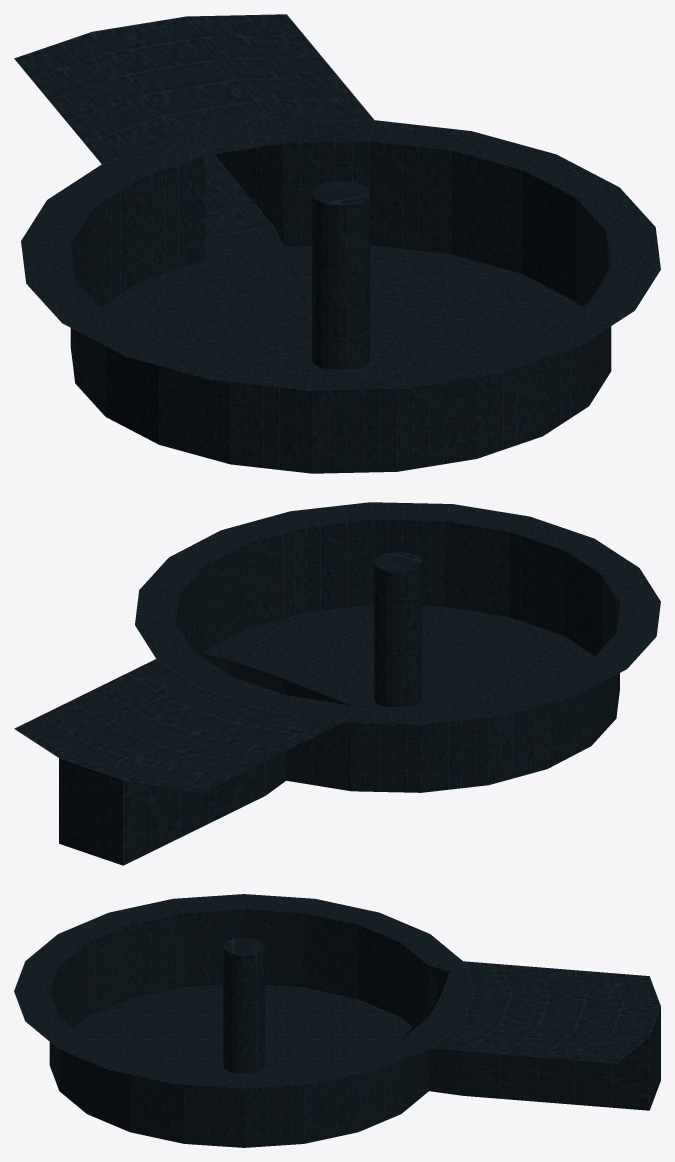
The model's file is Hub Level.fbx.
The picture shows the model from 3 angles, top to bottom: view 1: azimuth 30°, elevation 25°; view 2: azimuth 150°, elevation 25°; view 3: azimuth 270°, elevation 25°; orthographic projection. The views are drawn at different scales.
Parts seen in each view (by area): view 1: pCylinder1; view 2: pCylinder1; view 3: pCylinder1.
Boxes of the visible parts, bbox=[...] form: pCylinder1: bbox=[14, 14, 660, 473]; pCylinder1: bbox=[14, 502, 660, 865]; pCylinder1: bbox=[14, 894, 660, 1147].
Bounding box in the file's own units: 74.83 × 21.37 × 105.
Materials: 1 (1 with a texture image).
